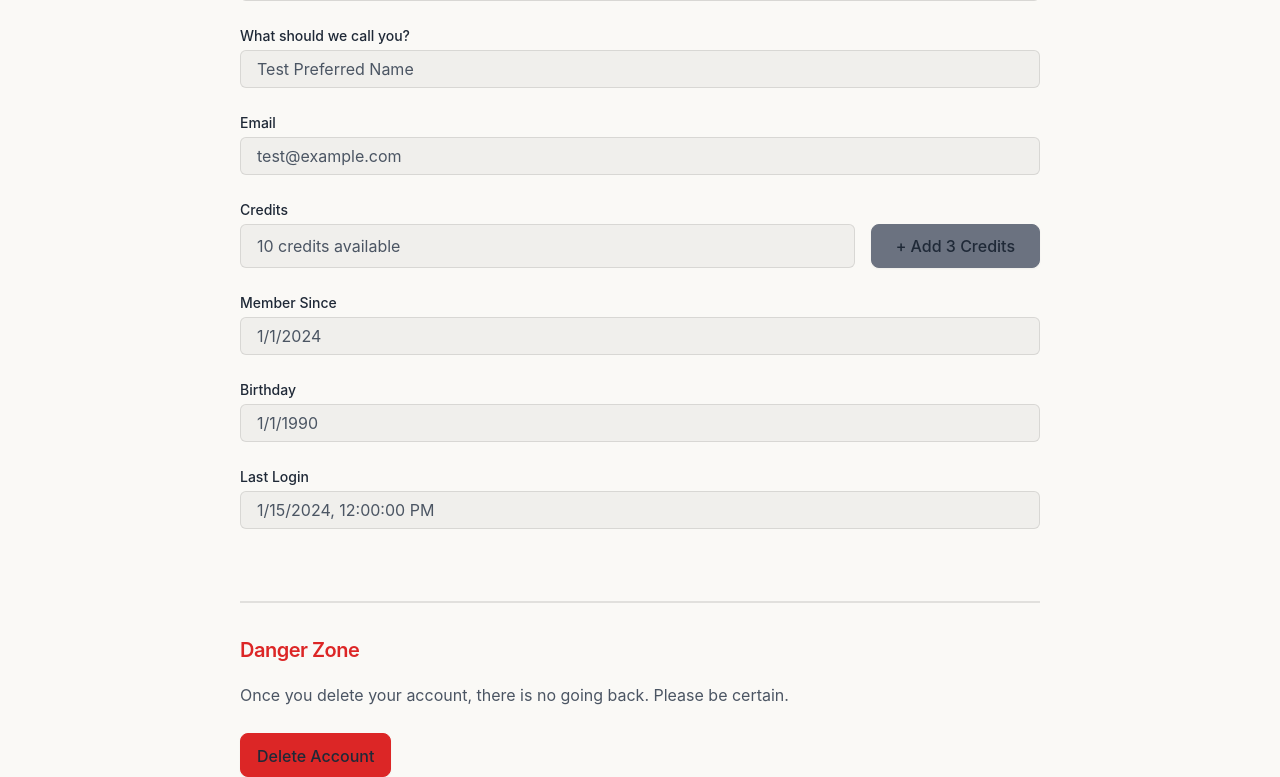
Test: ProfilePage › should cancel deletion when cancel button is clicked
(page scrolled)
Click the button "Delete Account" at (316, 755), box top-left (240, 733), bottom-right (391, 776)
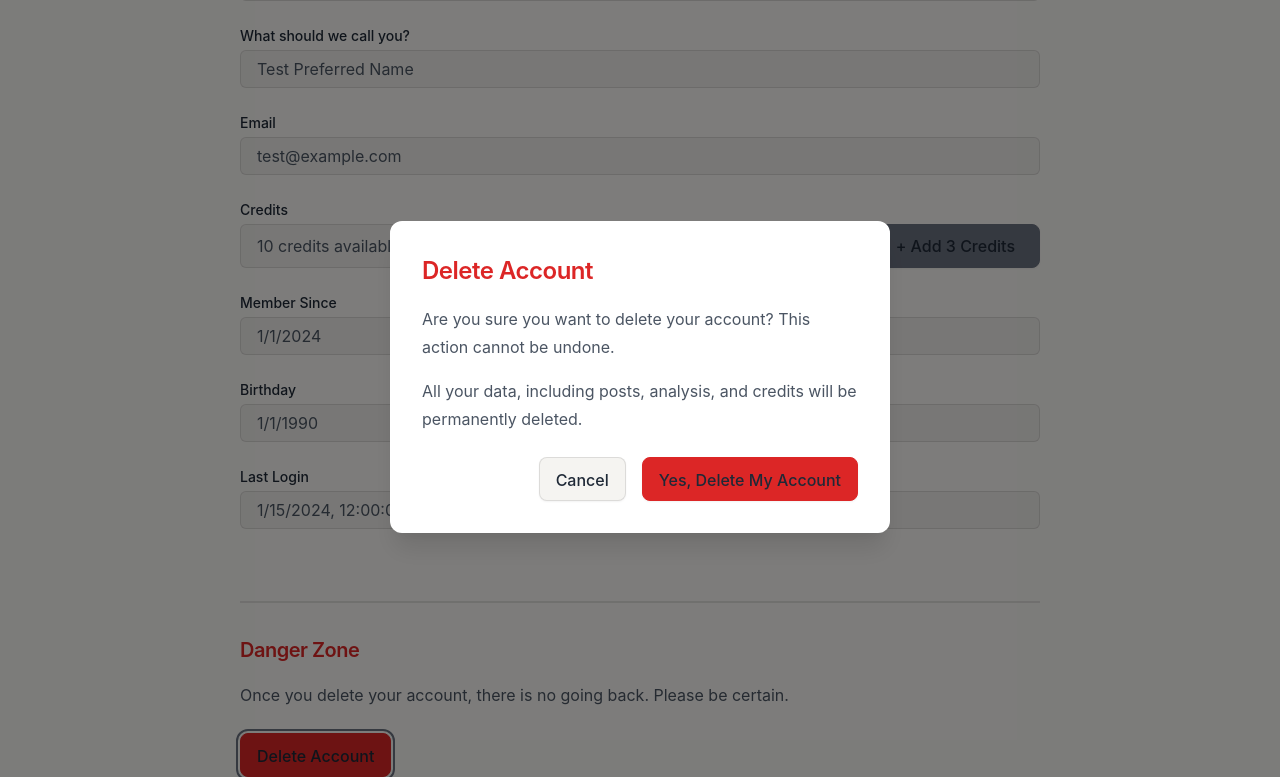
Click the button "Cancel" at (582, 479), box top-left (539, 457), bottom-right (626, 501)
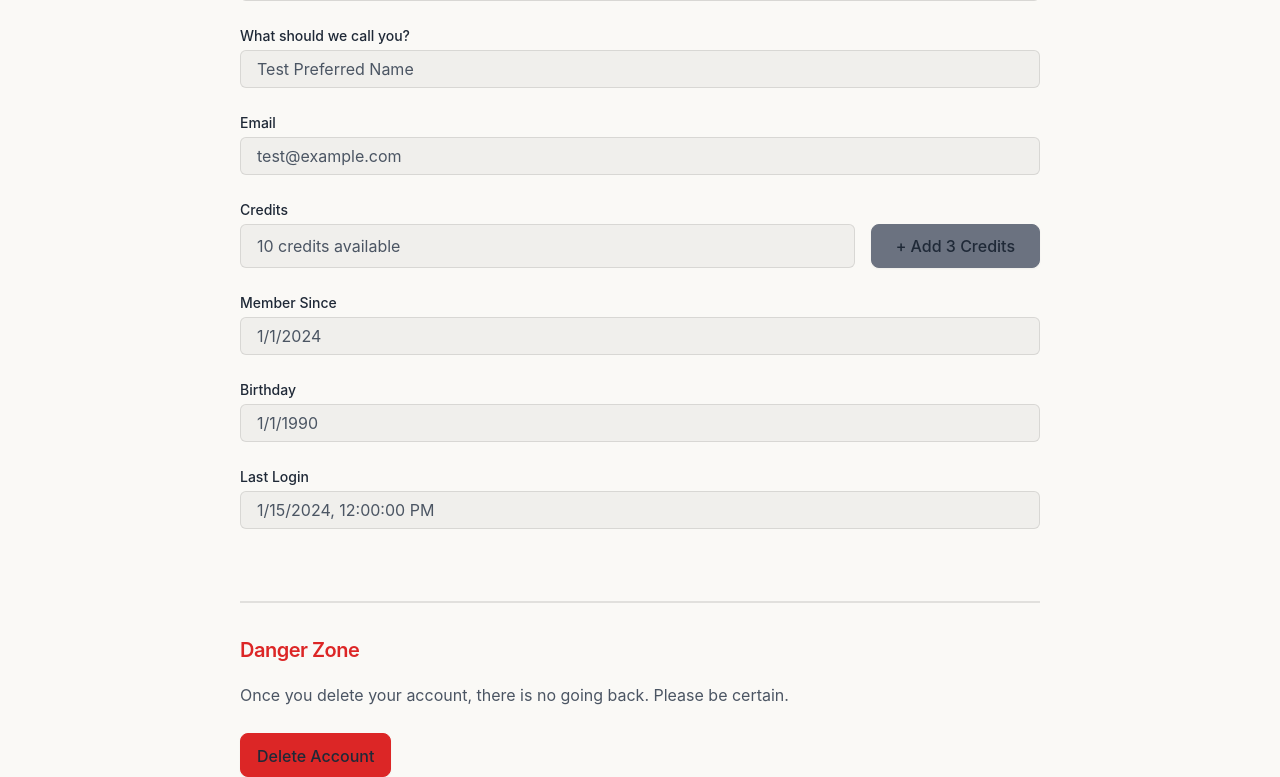
Now the text "Are you sure you want to delete your account" is gone
